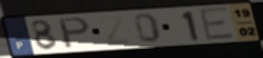0: (133, 11, 163, 45)
1: (181, 9, 201, 42)
8: (30, 19, 60, 51)
E: (197, 6, 237, 43)
P: (57, 16, 93, 51)
Z: (96, 14, 135, 47)
